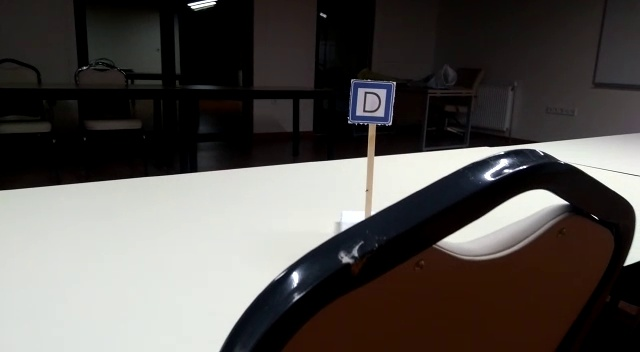durak: (349, 78, 396, 124)
